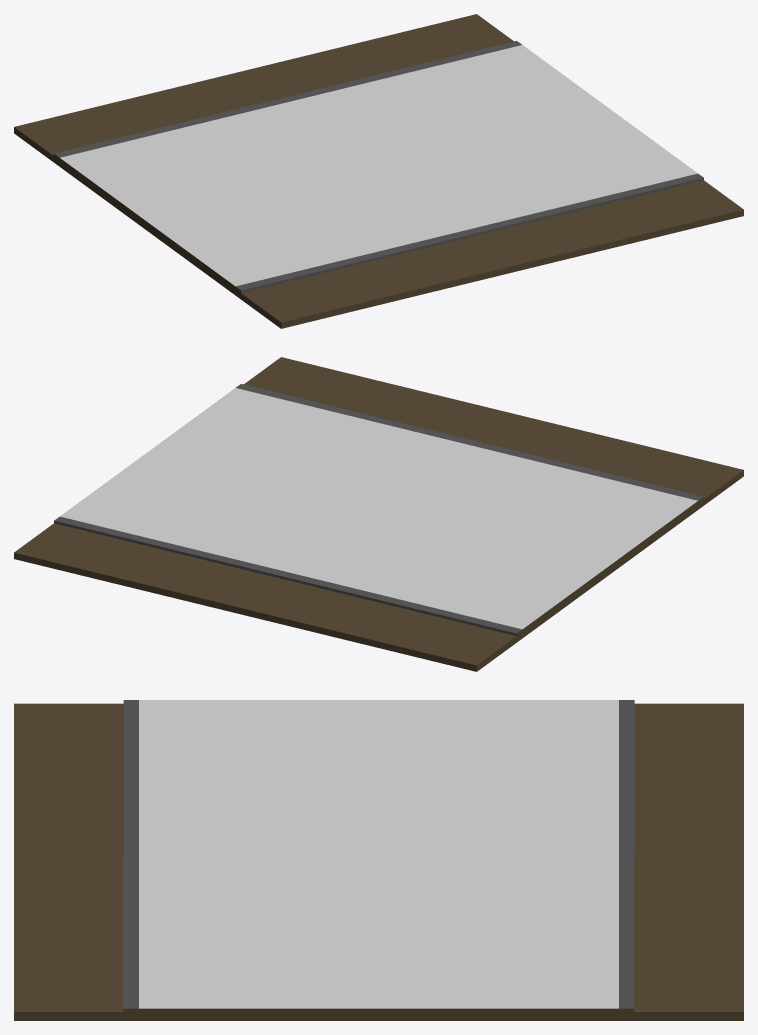
Rendered from Floor_Straight_Corridor.fbx.
The picture shows the model from 3 angles, top to bottom: view 1: azimuth 30°, elevation 25°; view 2: azimuth 150°, elevation 25°; view 3: azimuth 270°, elevation 25°; orthographic projection. The views are drawn at different scales.
Visible parts, largest first — view 1: Floor.001; view 2: Floor.001; view 3: Floor.001.
Part boxes in pixels (x1,y1,x2,y2): Floor.001: (14, 14, 743, 328); Floor.001: (14, 357, 743, 671); Floor.001: (14, 700, 743, 1020).
Bounding box in the file's own units: 600 × 11.21 × 600.
